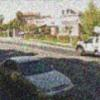cars: (0, 54, 74, 100)
